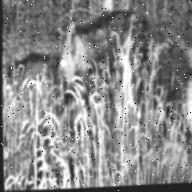boar: (48, 7, 152, 132)
